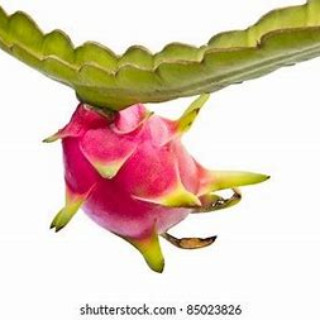thanh_long: (56, 94, 246, 266)
